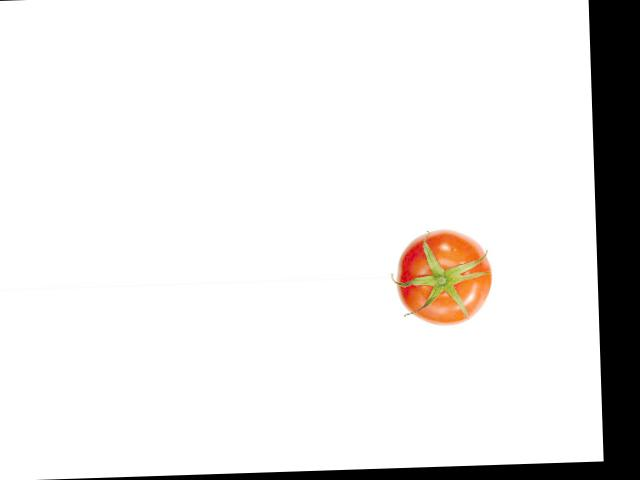tomato: (395, 228, 494, 326)
